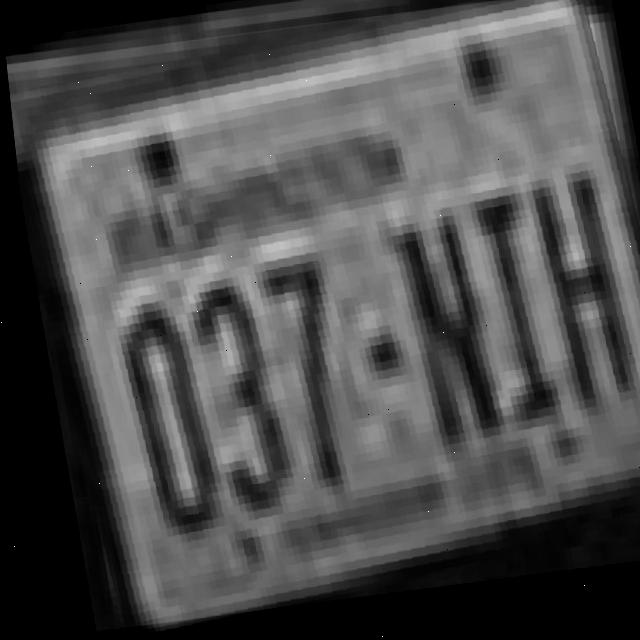LicensePlate: (2, 0, 640, 633)
